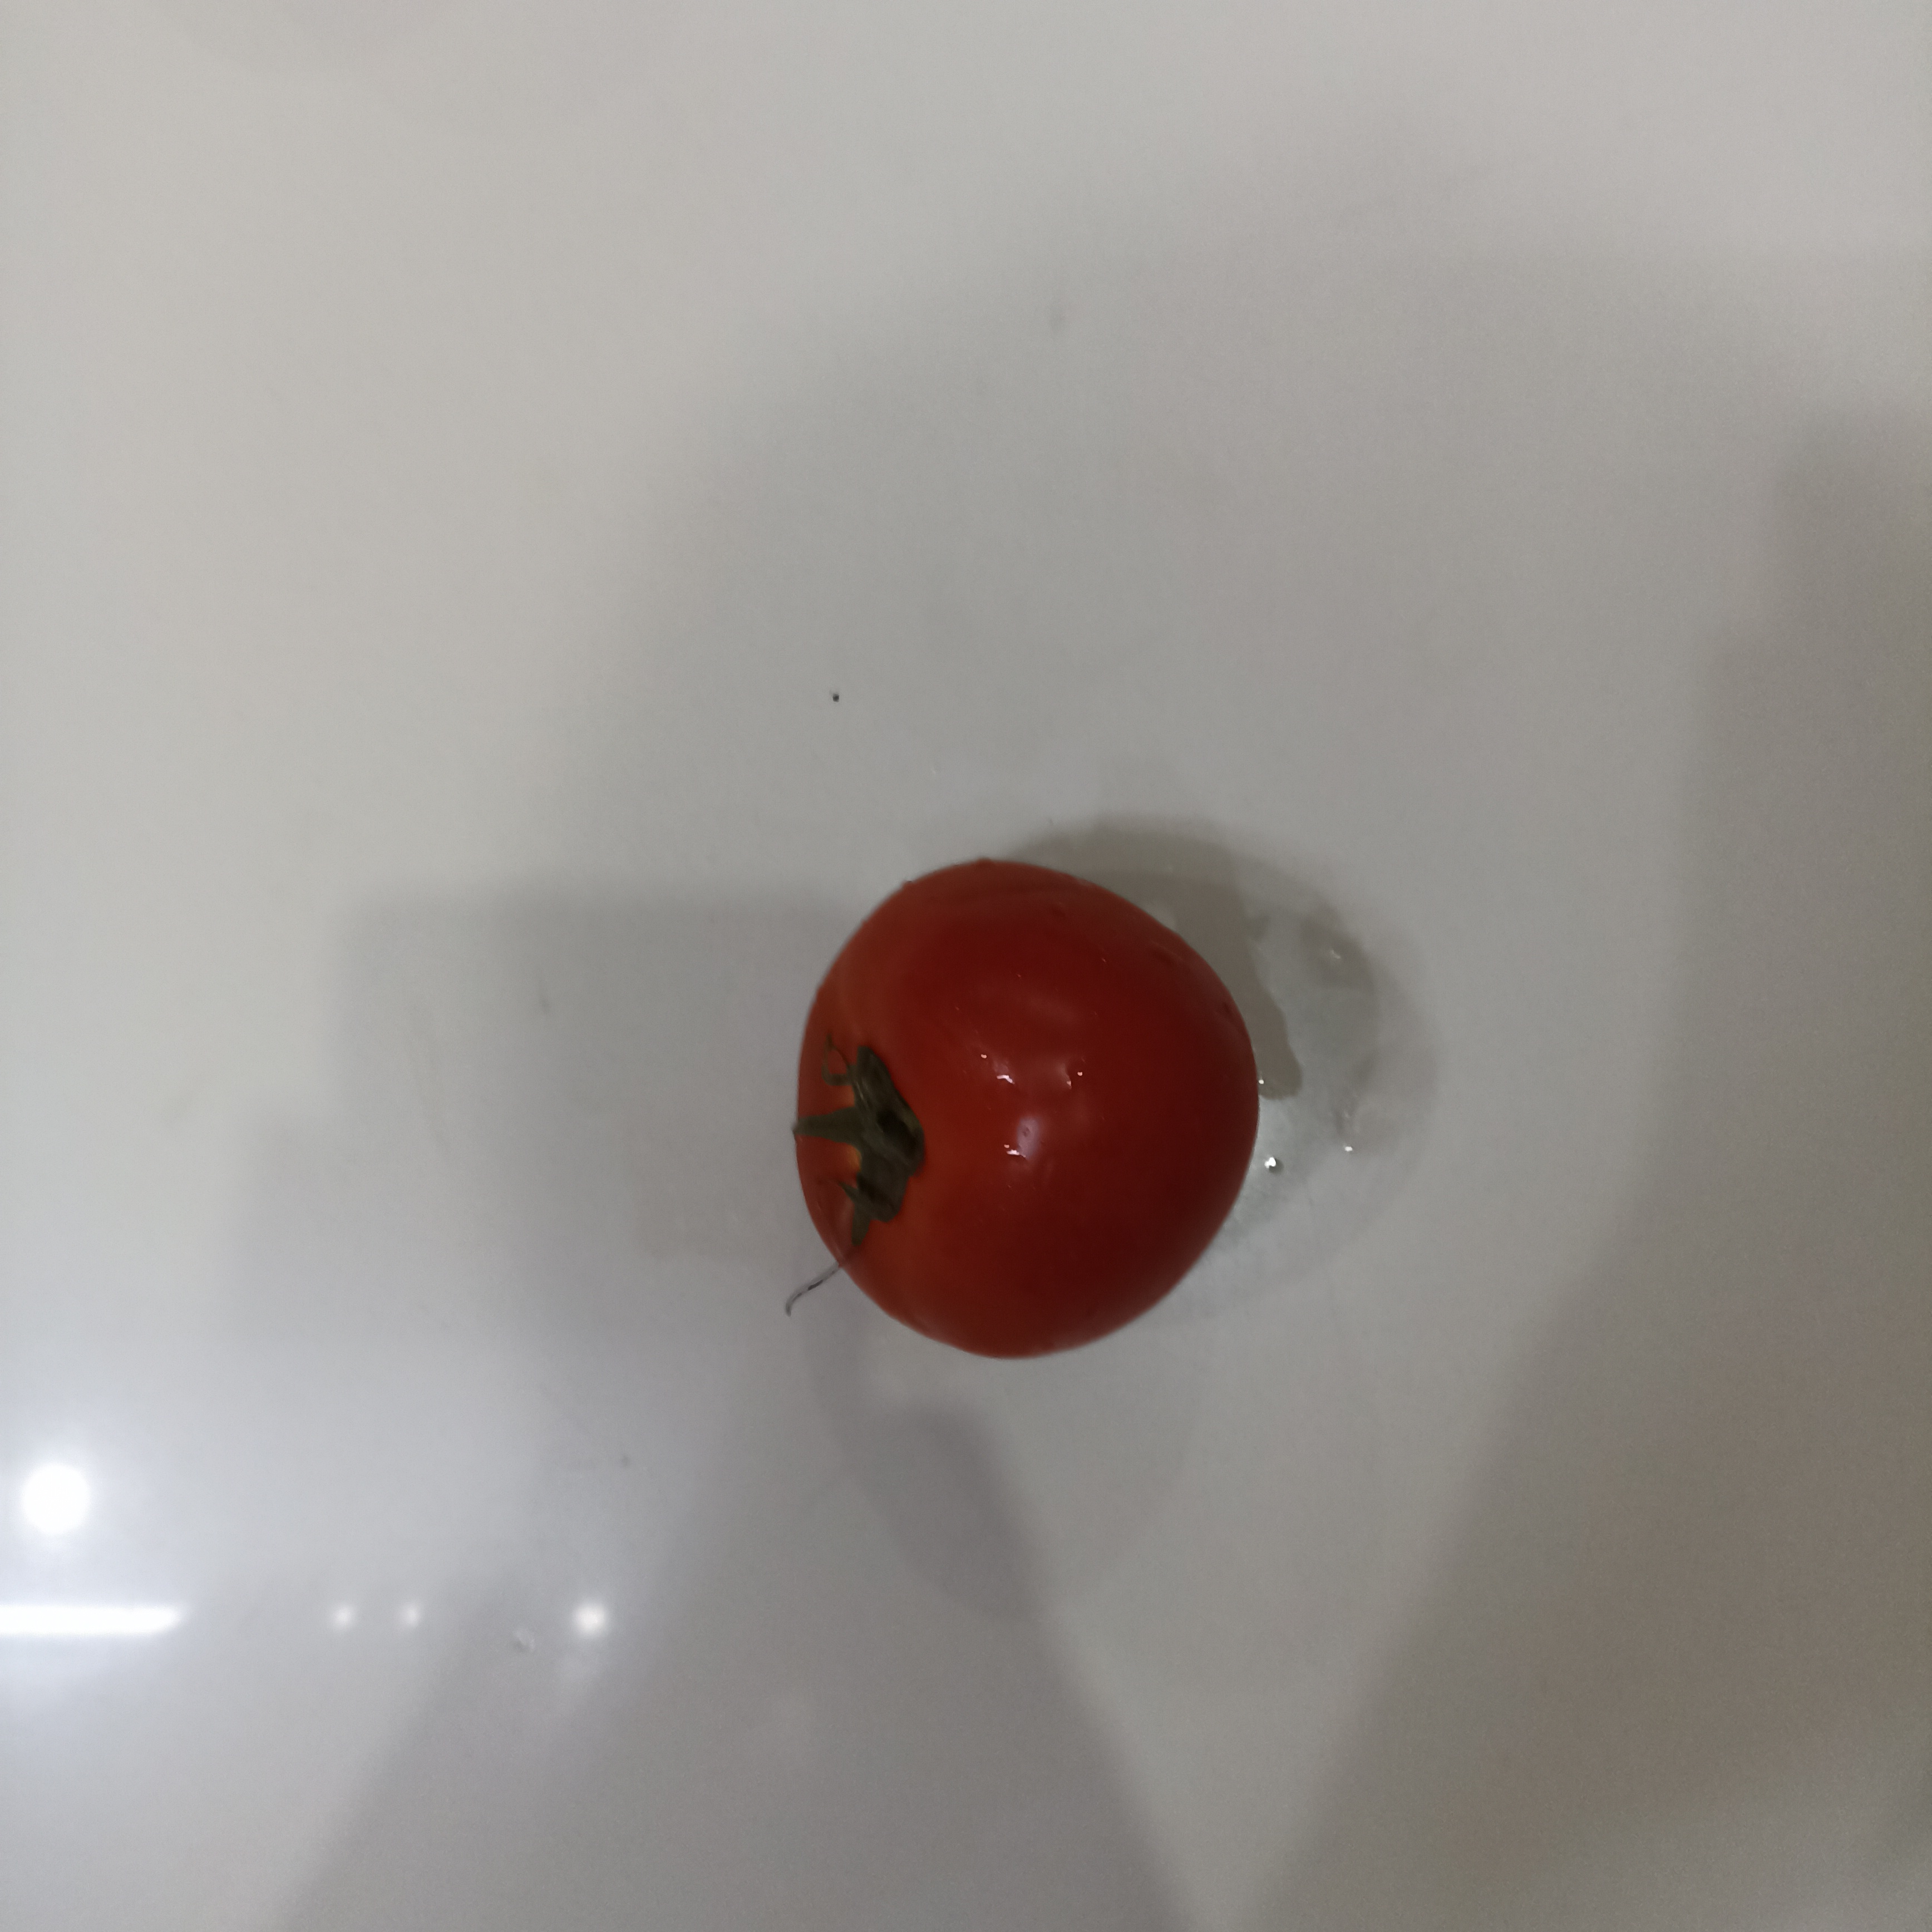Ca chua: (795, 857, 1259, 1369)
